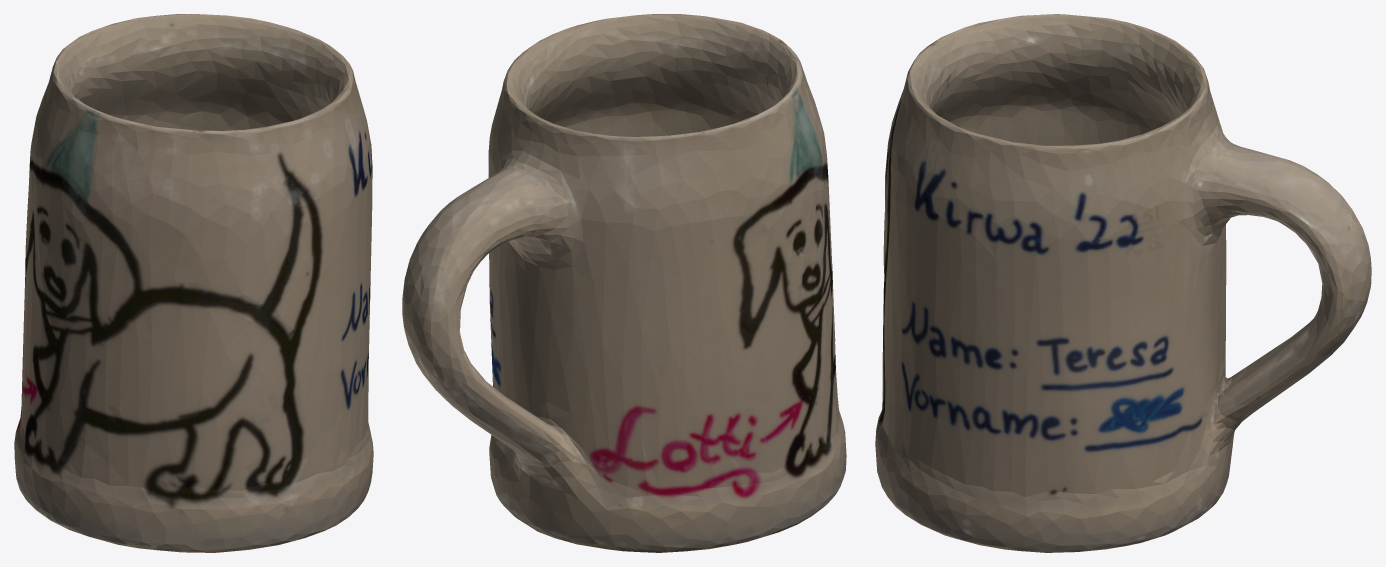
File: 44633EA0-9CBD-D74C-B96C-1A5EFD30CE3C_2k.glb
The picture shows the model from 3 angles, left to right: view 1: azimuth 30°, elevation 25°; view 2: azimuth 150°, elevation 25°; view 3: azimuth 270°, elevation 25°; orthographic projection.
Visible parts, largest first — view 1: Krug Hund_5k_2k; view 2: Krug Hund_5k_2k; view 3: Krug Hund_5k_2k.
Boxes of the visible parts, x1,y1,x2,y2 form: Krug Hund_5k_2k: [14, 14, 373, 552]; Krug Hund_5k_2k: [402, 14, 846, 552]; Krug Hund_5k_2k: [875, 14, 1371, 552].
Bounding box in the file's own units: 0.1006 × 0.128 × 0.1396.
1 material, 1 textured.
